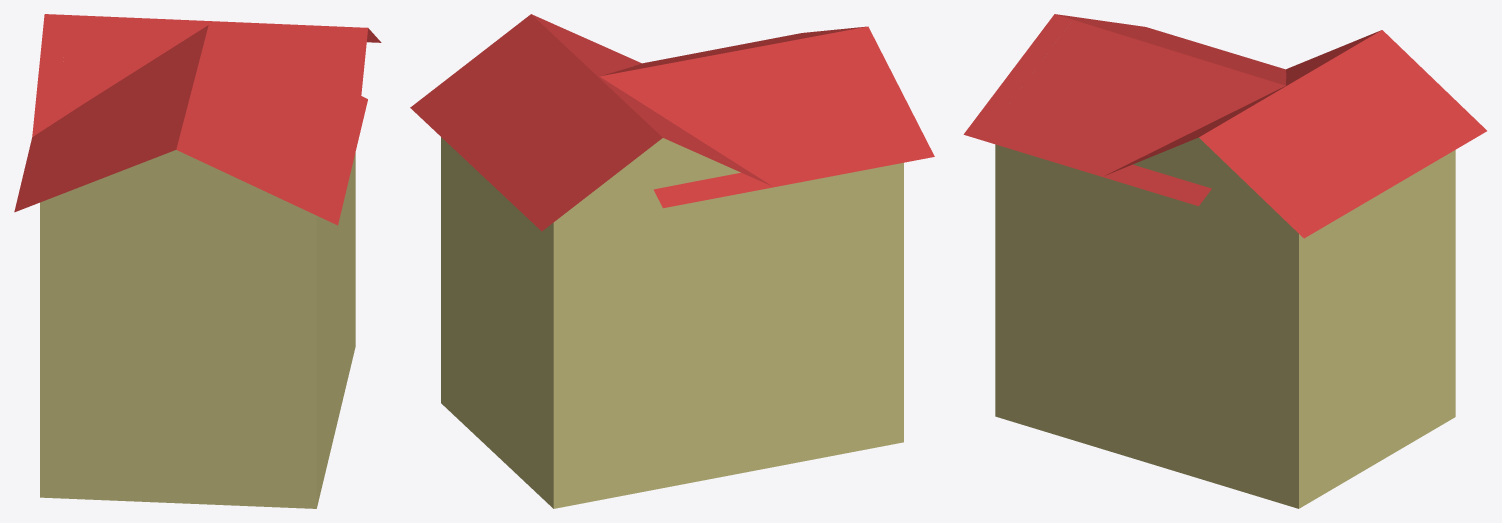
3 views of the same model, side by side, from view 1: azimuth 30°, elevation 25°; view 2: azimuth 150°, elevation 25°; view 3: azimuth 270°, elevation 25° (orthographic). The views are drawn at different scales.
Parts seen in each view (by area): view 1: group_5, group_3, group_7, group_9, group_4, group_8; view 2: group_5, group_9, group_3, group_7, group_4; view 3: group_9, group_5, group_7, group_3, group_4.
Boxes of the visible parts, x1,y1,x2,y2 form: group_5: (40, 150, 344, 508); group_3: (14, 25, 367, 225); group_7: (32, 14, 381, 150); group_9: (344, 152, 355, 391); group_4: (15, 96, 367, 218); group_8: (33, 14, 367, 146); group_5: (653, 30, 903, 489); group_9: (441, 137, 740, 508); group_3: (600, 26, 934, 208); group_7: (410, 14, 772, 231); group_4: (640, 26, 934, 156); group_9: (1133, 137, 1455, 508); group_5: (995, 144, 1211, 482); group_7: (1105, 30, 1486, 238); group_3: (964, 14, 1286, 205); group_4: (976, 14, 1211, 206).
Size of the model in its own units: 16.45 by 17.21 by 12.79.
